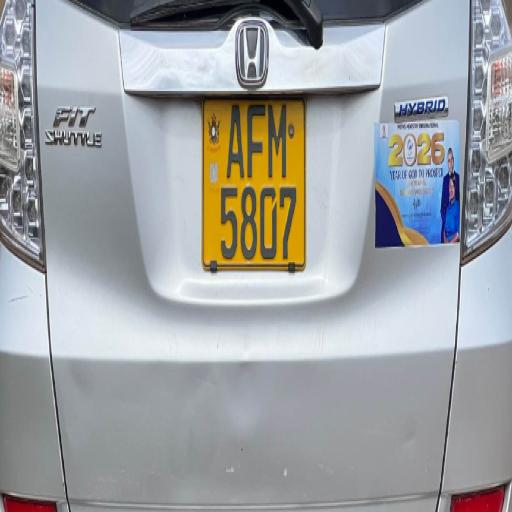number-plates: (203, 89, 301, 265)
